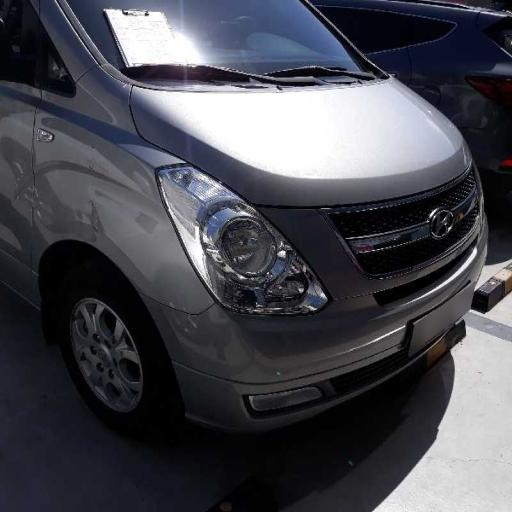dent: (92, 29, 368, 297)
